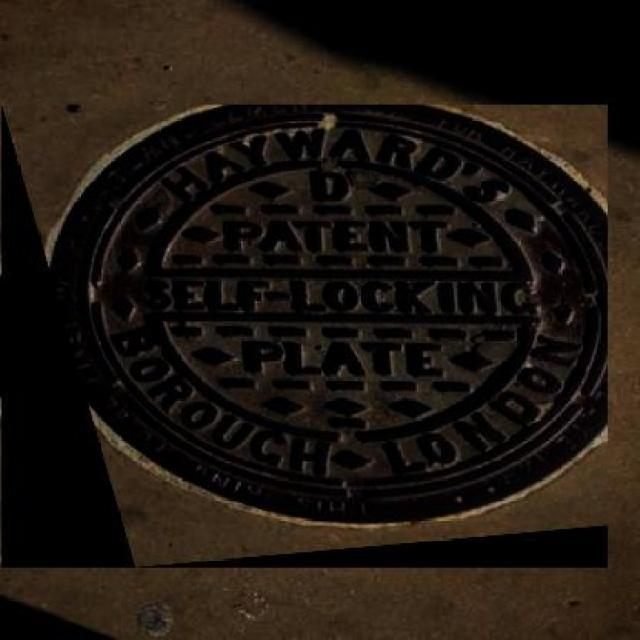Manhole: (2, 105, 608, 568)
